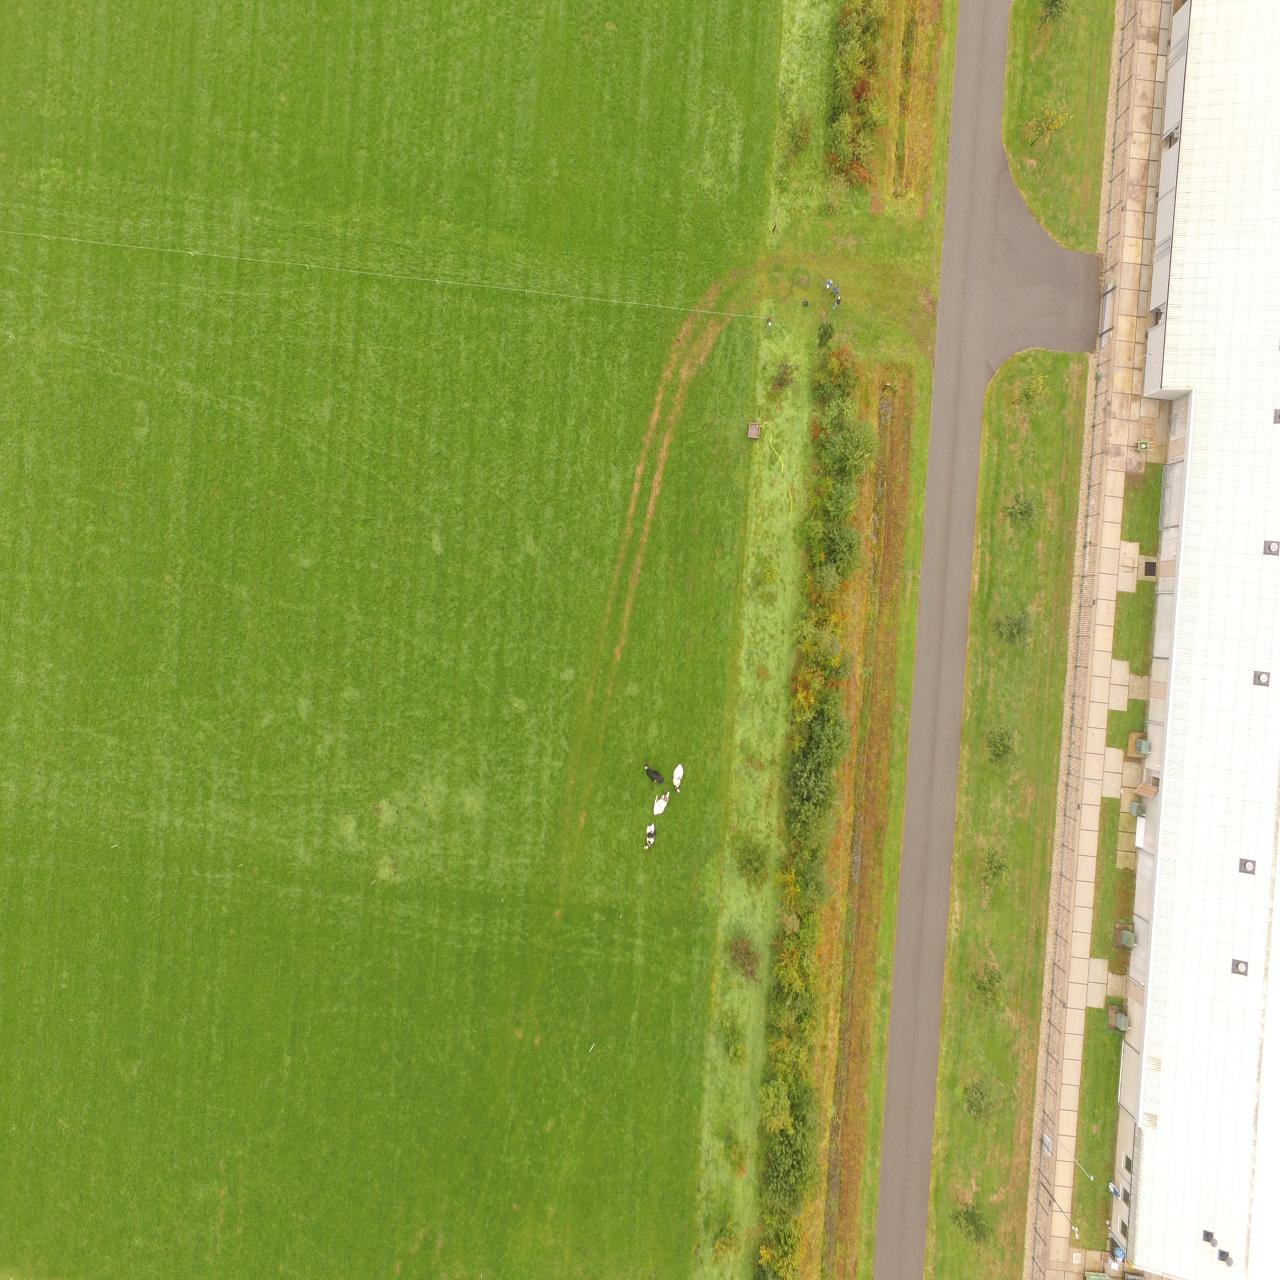cow: (645, 761, 663, 784), (653, 791, 669, 816), (644, 823, 656, 850), (672, 763, 683, 792)
